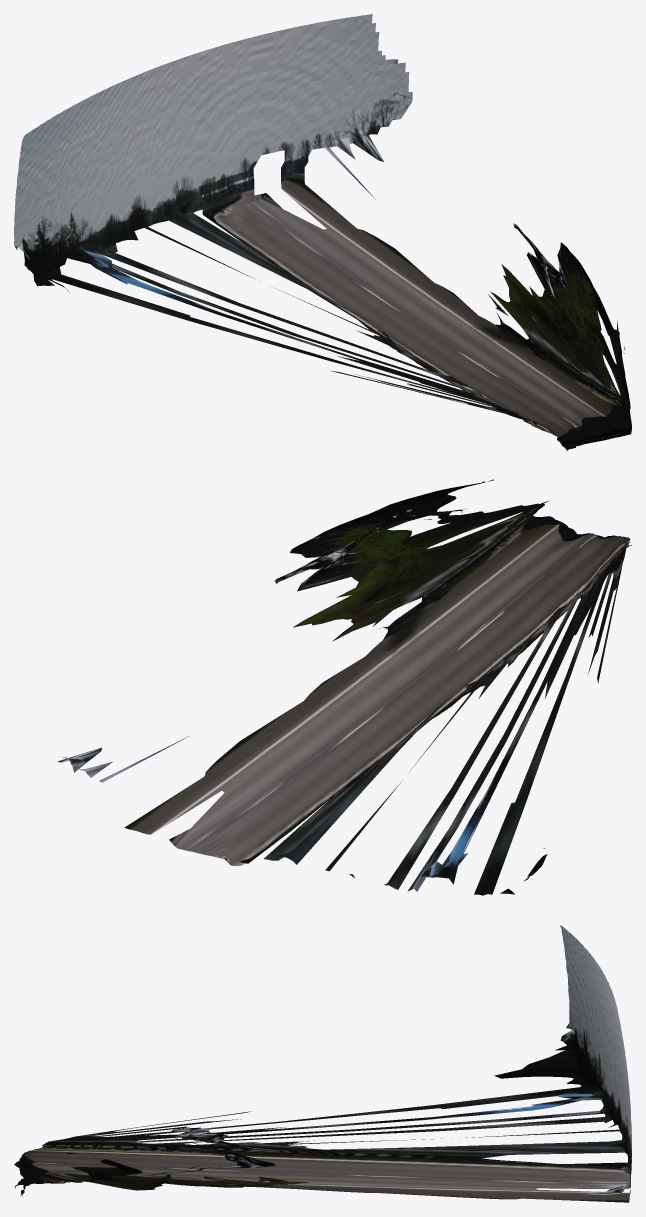
3 renders of one model, top to bottom at view 1: azimuth 30°, elevation 25°; view 2: azimuth 150°, elevation 25°; view 3: azimuth 270°, elevation 25°, orthographic. The views are drawn at different scales.
Visible parts, largest first — view 1: defaultobject; view 2: defaultobject; view 3: defaultobject.
Boxes of the visible parts, left/top/right/bottom form: defaultobject: left=14, top=14, right=631, bottom=450; defaultobject: left=57, top=479, right=631, bottom=895; defaultobject: left=14, top=925, right=631, bottom=1202.
Size of the model in its own units: 31.52 by 12.46 by 44.38.
Materials: 1 (1 with a texture image).
